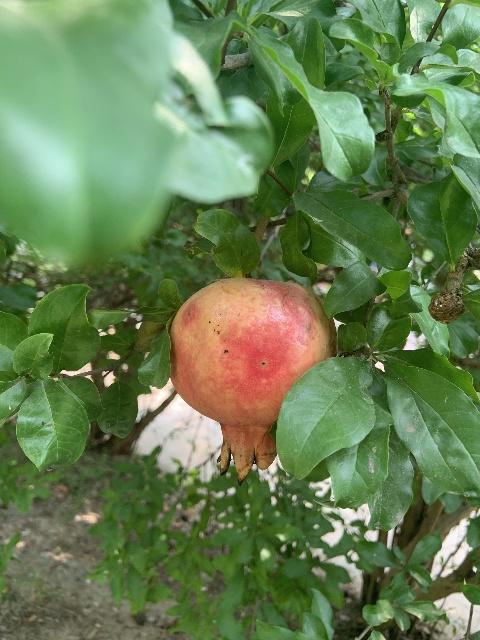ripe: (167, 277, 336, 482)
